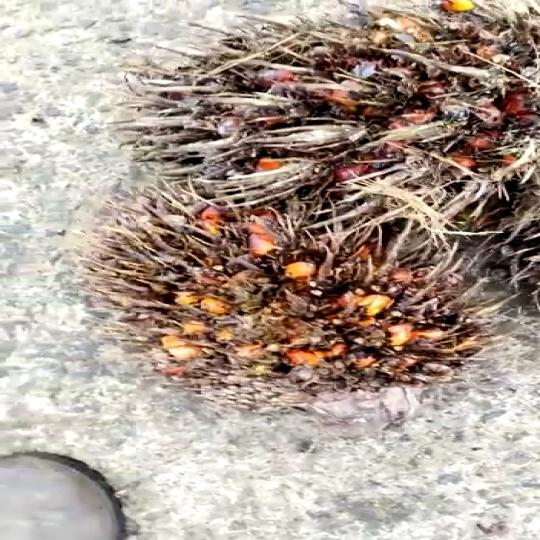terlalu masak: (103, 2, 540, 208), (79, 185, 483, 393)
